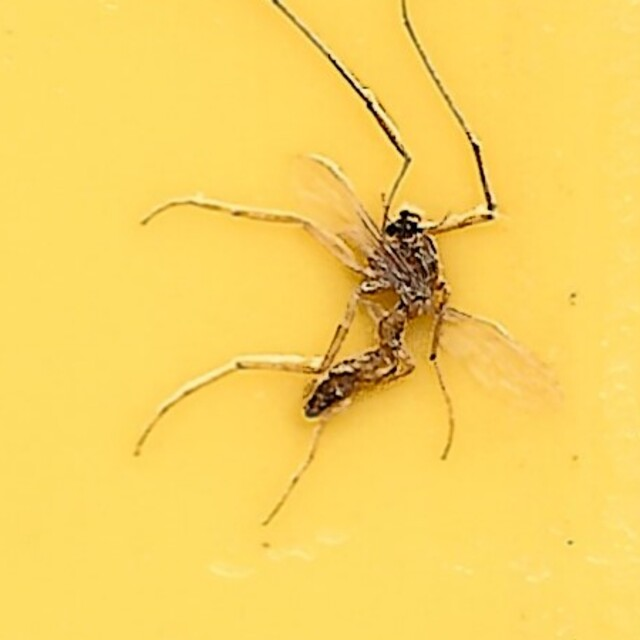Nematocera: (142, 150, 498, 490)
